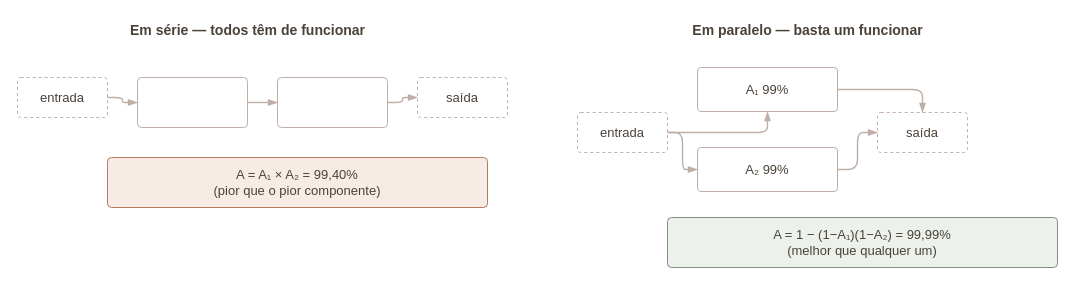
Image size: 1075x285. Some labels were removed from this diagram. The shapes that lost their labels are listed below. From the top down, each one's centre as x and y in pixels, then its label:
At (x=192, y=102): "A₁ 99,9%".
At (x=332, y=102): "A₂ 99,5%".
